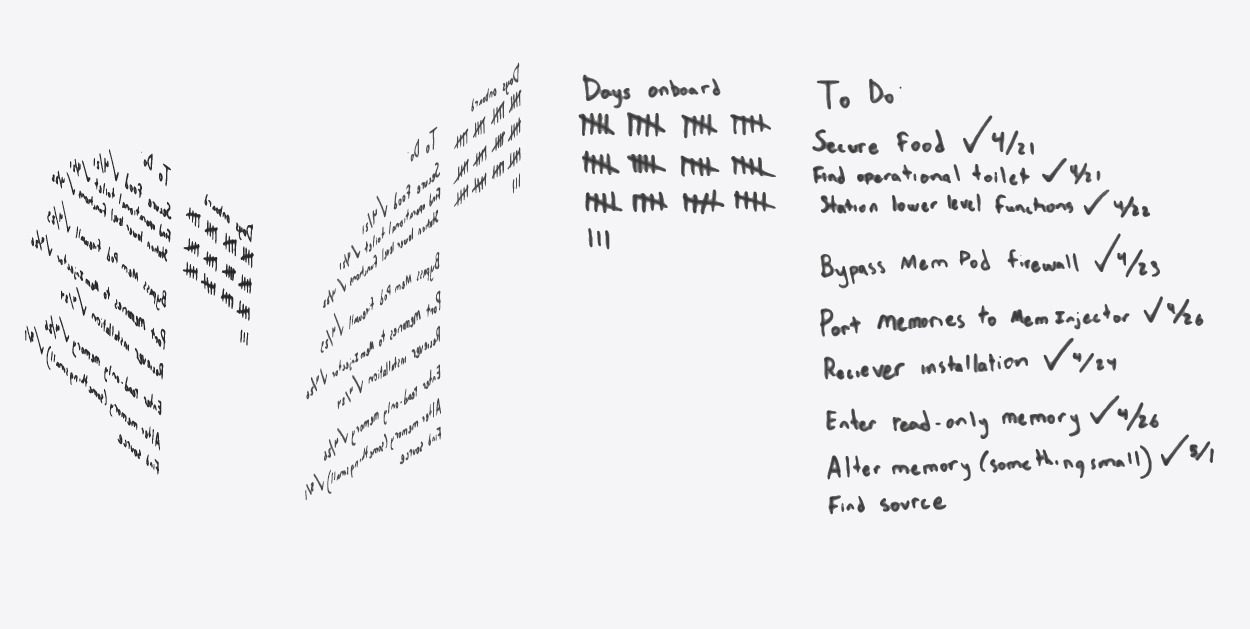
The model's file is NewtonNotes4.fbx.
3 views of the same model, side by side, from view 1: azimuth 30°, elevation 25°; view 2: azimuth 150°, elevation 25°; view 3: azimuth 270°, elevation 25° (orthographic). The views are drawn at different scales.
Parts seen in each view (by area): view 1: Plane.013; view 2: Plane.013; view 3: Plane.013.
Boxes of the visible parts, <box> form: Plane.013: <box>25,149,253,474</box>; Plane.013: <box>305,62,521,499</box>; Plane.013: <box>578,74,1213,514</box>.
Size of the model in its own units: 1.83 by 66.83 by 66.85.
